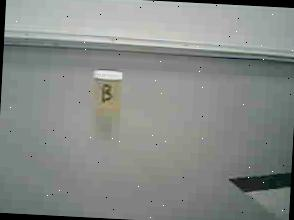Bottle B: (84, 66, 132, 121)
